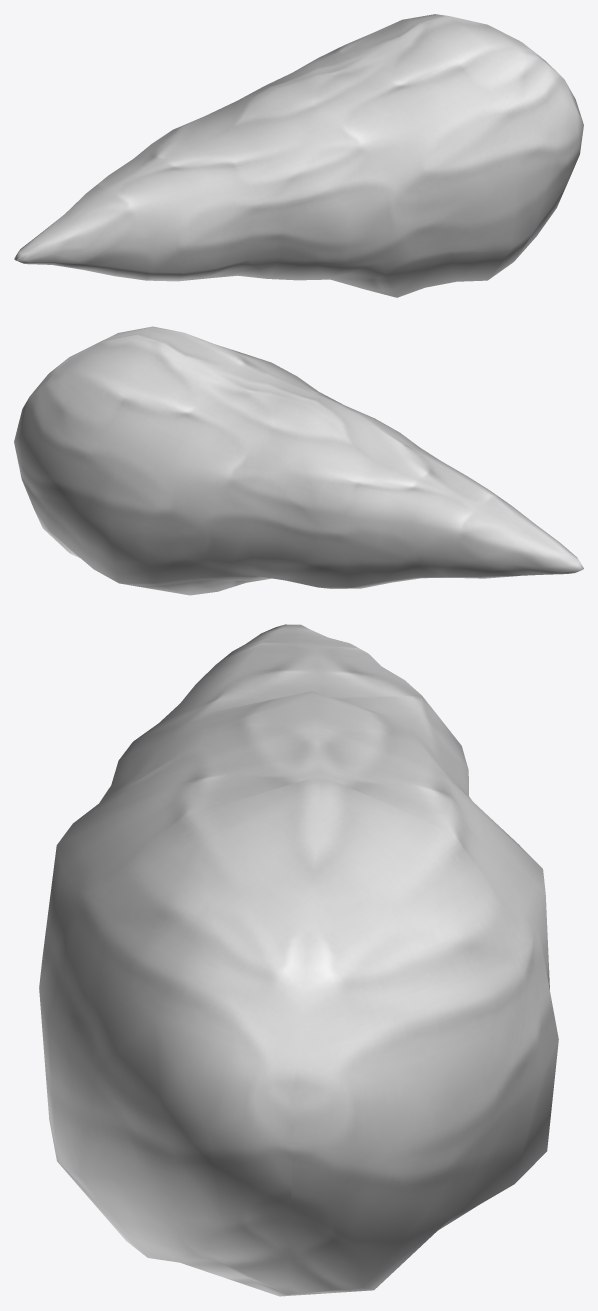
File: Squirt.fbx
The picture shows the model from 3 angles, top to bottom: view 1: azimuth 30°, elevation 25°; view 2: azimuth 150°, elevation 25°; view 3: azimuth 270°, elevation 25°; orthographic projection. The views are drawn at different scales.
Visible parts, largest first — view 1: Squirt Lo; view 2: Squirt Lo; view 3: Squirt Lo.
Part boxes in pixels (x1,y1,x2,y2): Squirt Lo: [14, 14, 583, 297]; Squirt Lo: [14, 326, 583, 595]; Squirt Lo: [39, 624, 558, 1296].
Size of the model in its own units: 252 by 101 by 102.
